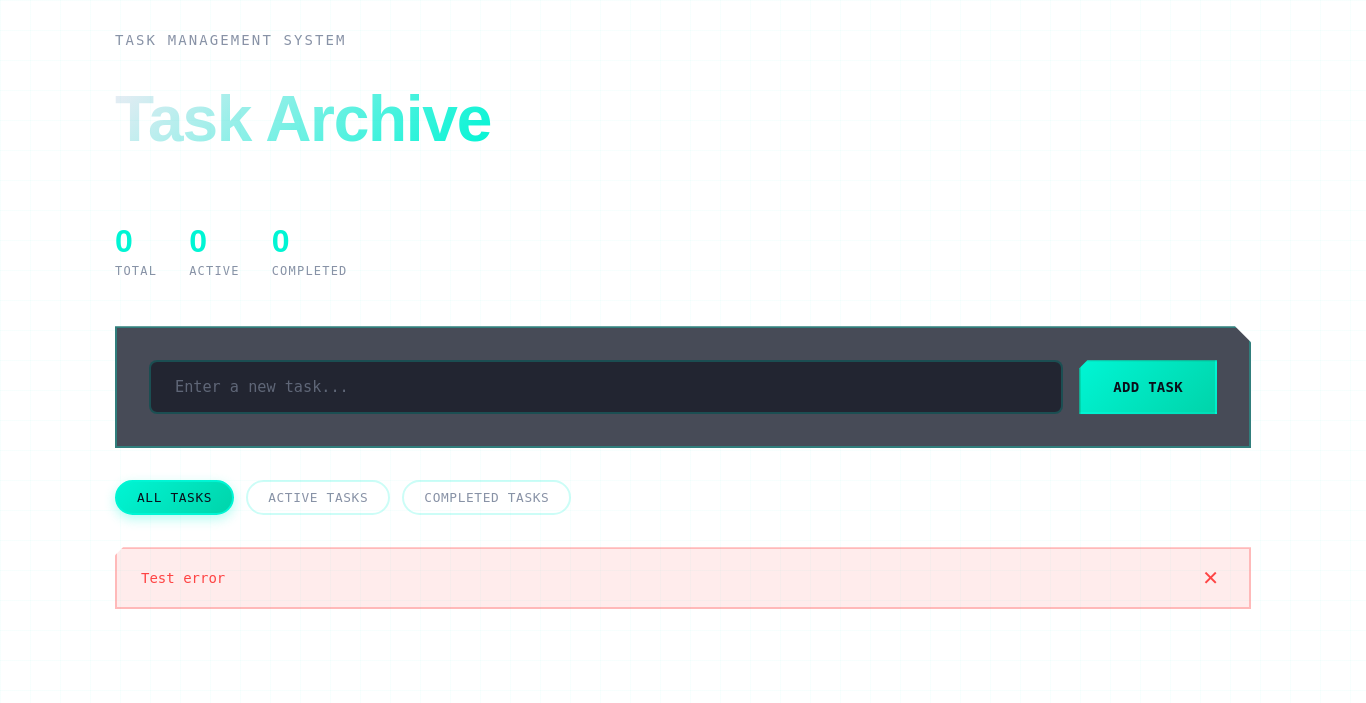
Test: TodoManager Component › Error Handling › allows dismissing error message
The image size is (1366, 703).
Check: the text "Test error ✕" is shown, box [115,547,1251,609]
Step 1. Click the button "✕" → (1211, 578), box [1196,565,1225,591]
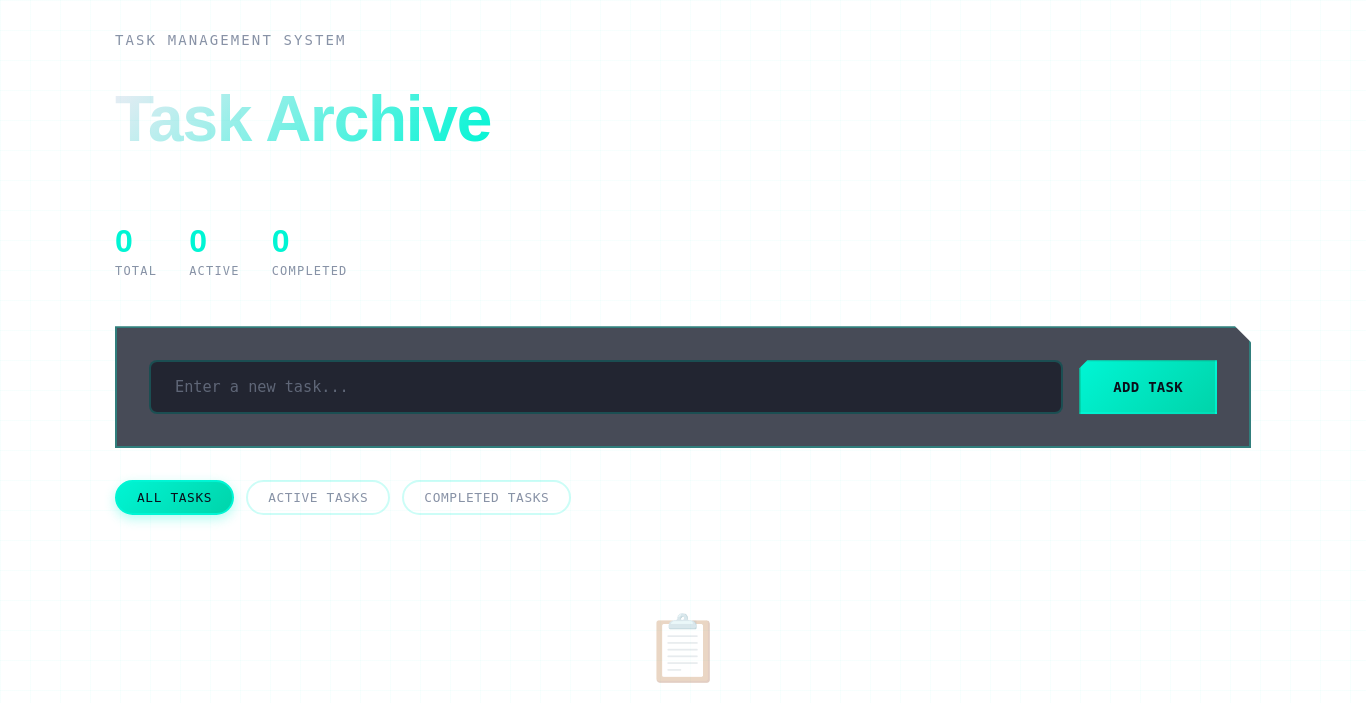
Check: the text "Test error" is gone
